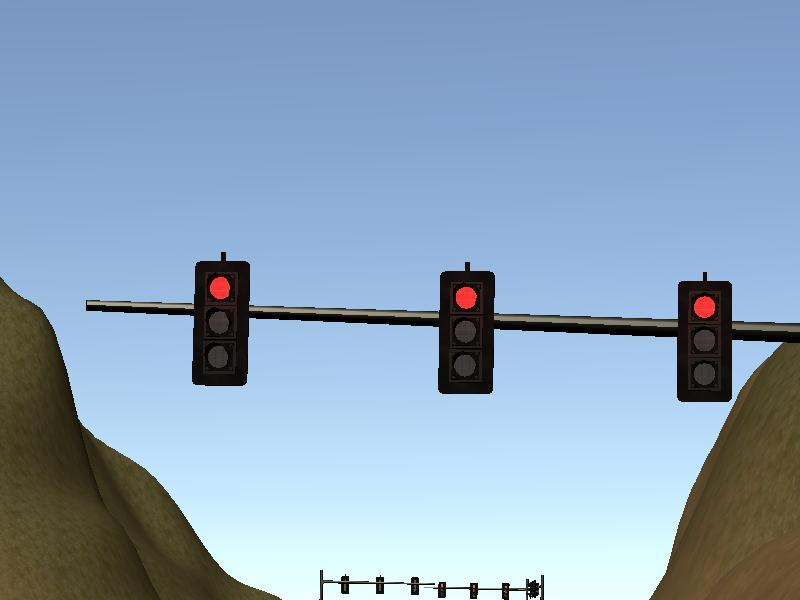red_light: (441, 275, 493, 389), (198, 262, 246, 385), (681, 282, 728, 399)
